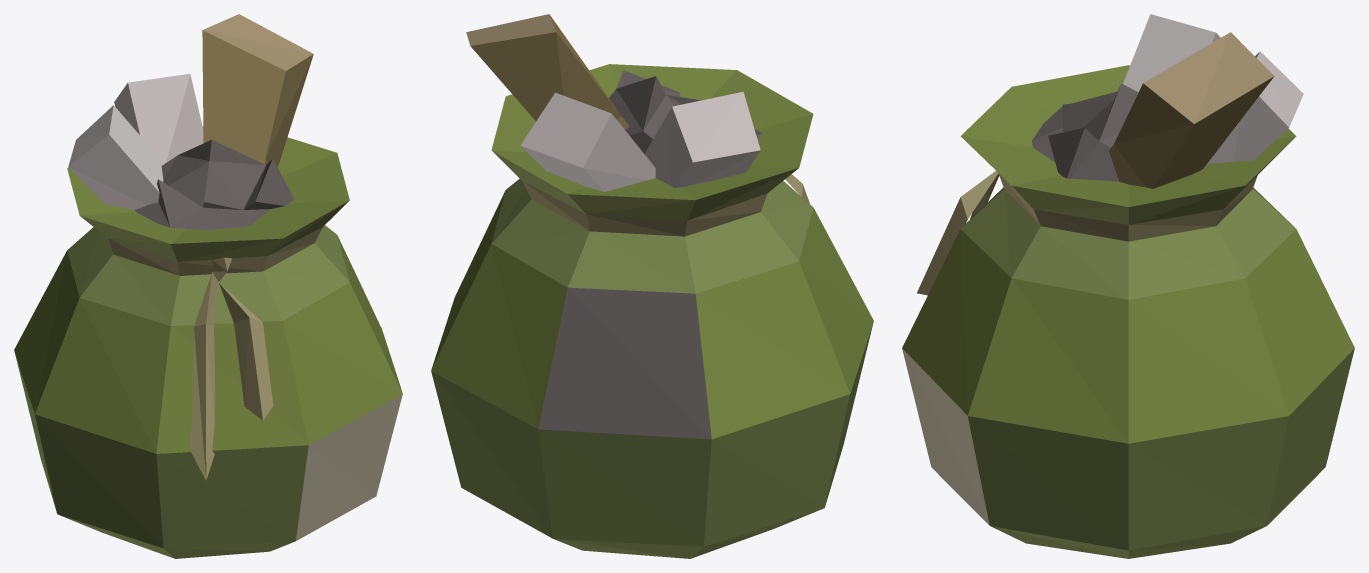
Rendered from flamtaer-bag.gltf.
The picture shows the model from 3 angles, left to right: view 1: azimuth 30°, elevation 25°; view 2: azimuth 150°, elevation 25°; view 3: azimuth 270°, elevation 25°; orthographic projection. The views are drawn at different scales.
Size of the model in its own units: 62 by 74 by 62.
Materials: 1 (1 with a texture image).
